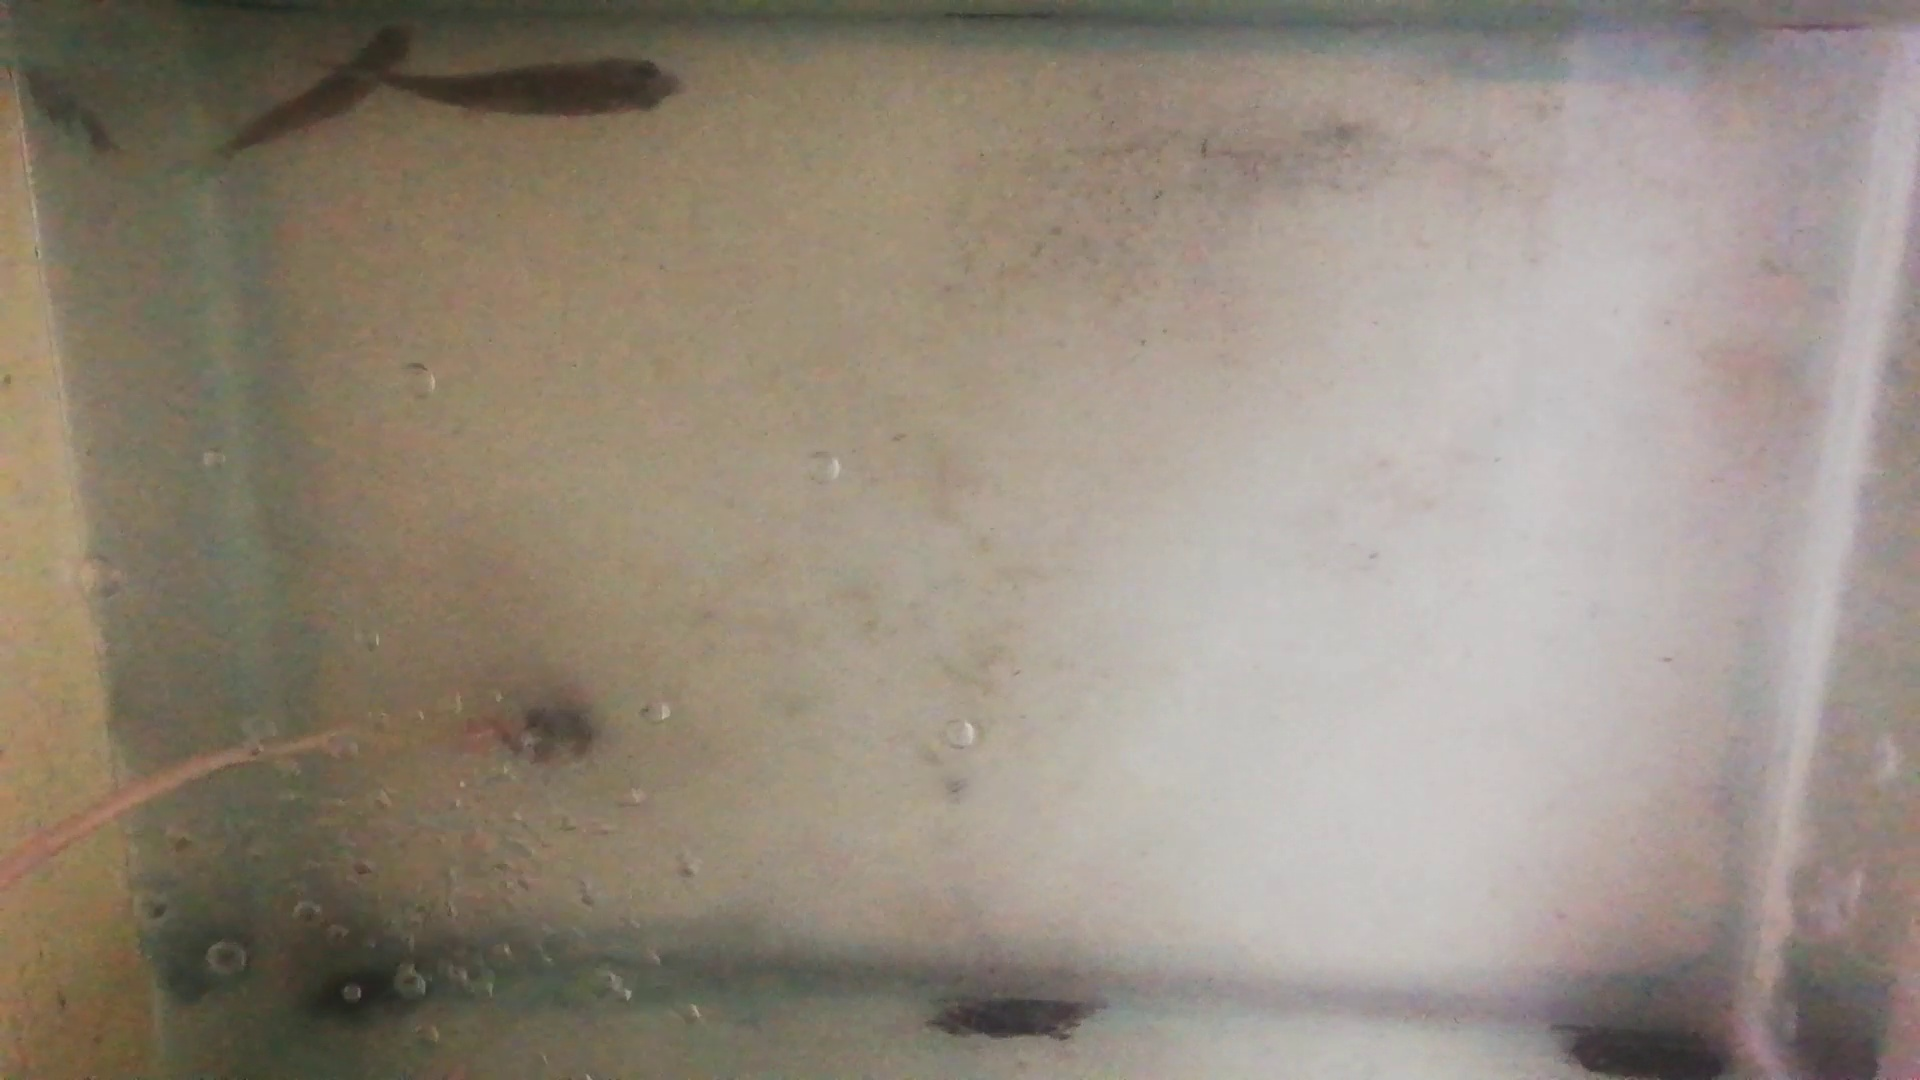fish: (225, 21, 415, 152), (392, 58, 688, 121)
